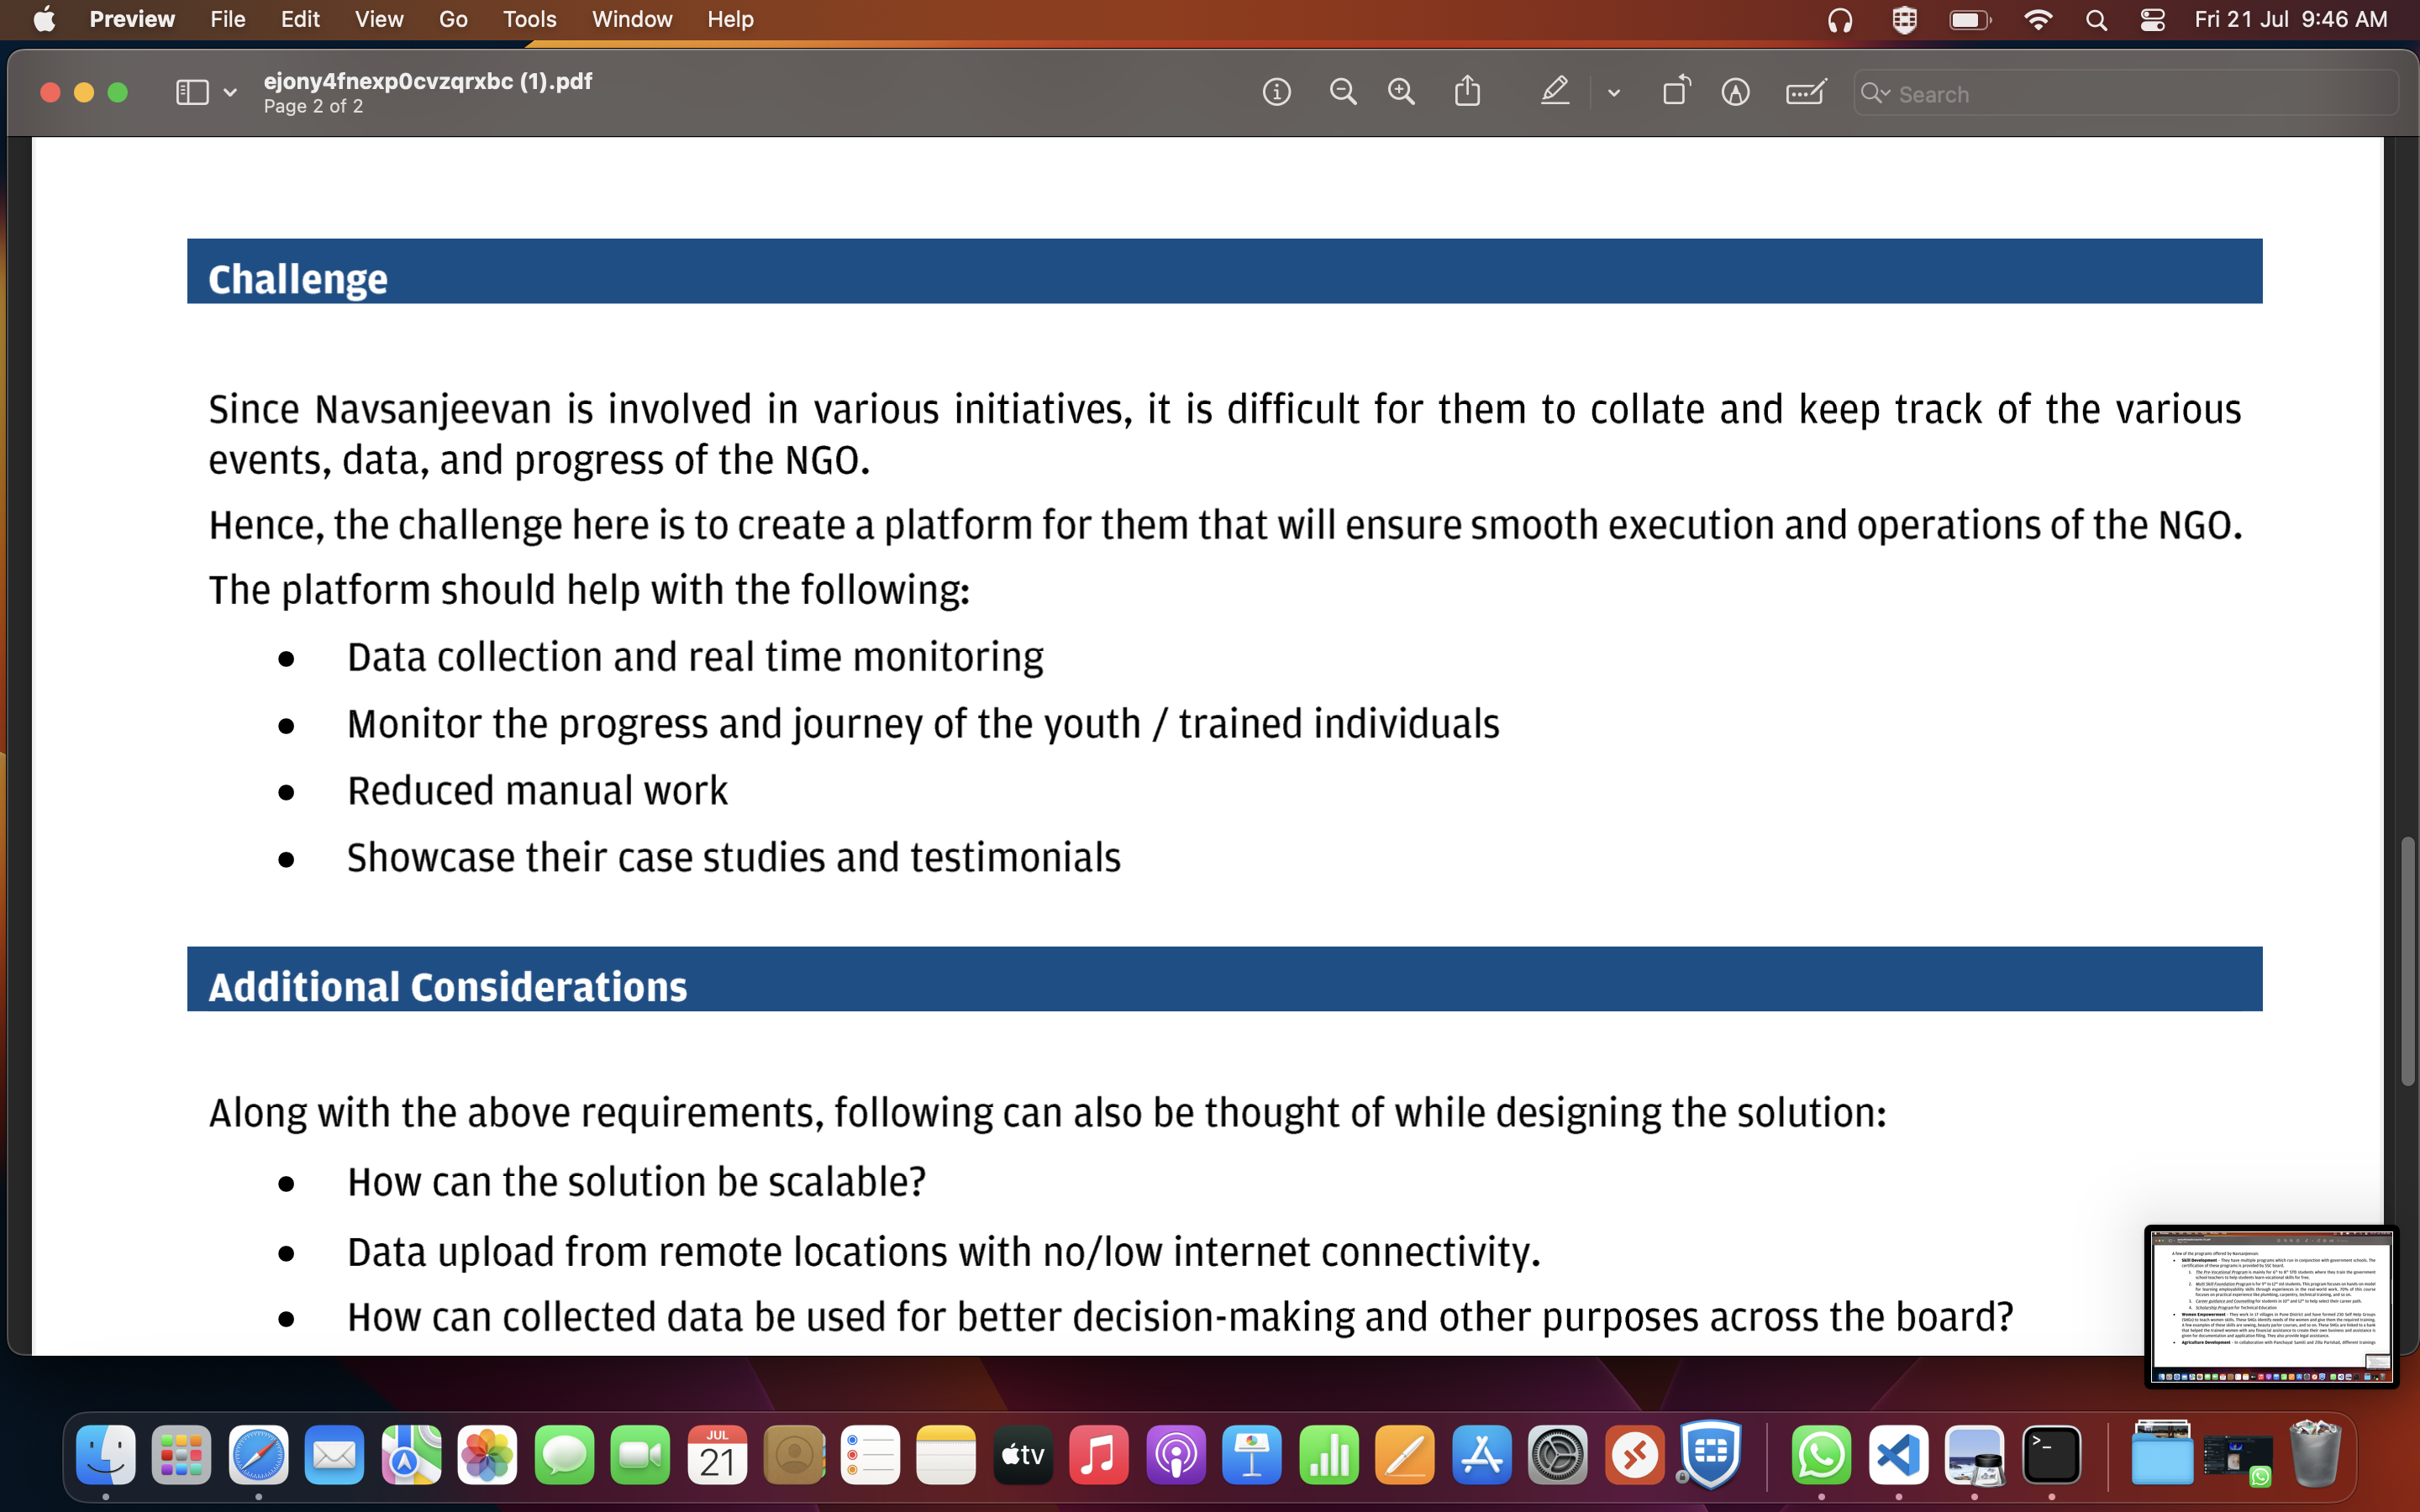Paragraph: (199, 489, 2239, 624), (199, 364, 2242, 486), (333, 1275, 2026, 1353), (350, 693, 1544, 761), (181, 1101, 1916, 1141), (343, 1232, 1547, 1272), (340, 1155, 939, 1228), (326, 638, 1066, 690), (319, 836, 1166, 871), (340, 761, 779, 826), (195, 977, 697, 1005), (178, 254, 394, 312)
